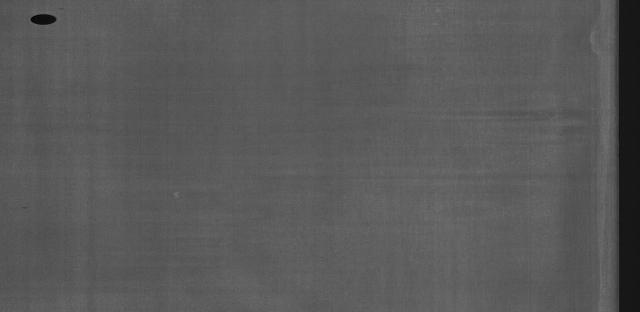punching_hole: (24, 9, 66, 30)
